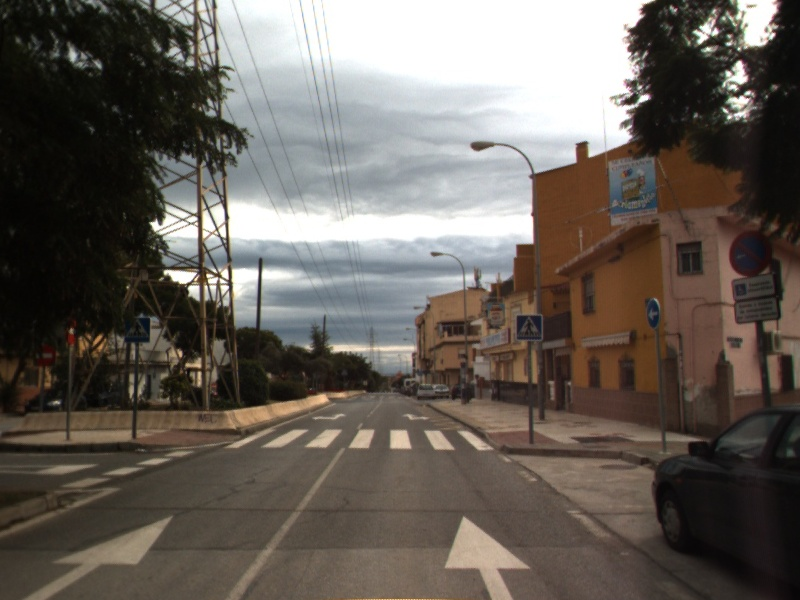STRAIGHT: (17, 512, 178, 600), (441, 513, 535, 600)
STRAIGHT_LEFT: (310, 411, 349, 422)
STRAIGHT_RIGHT: (400, 411, 433, 422)
